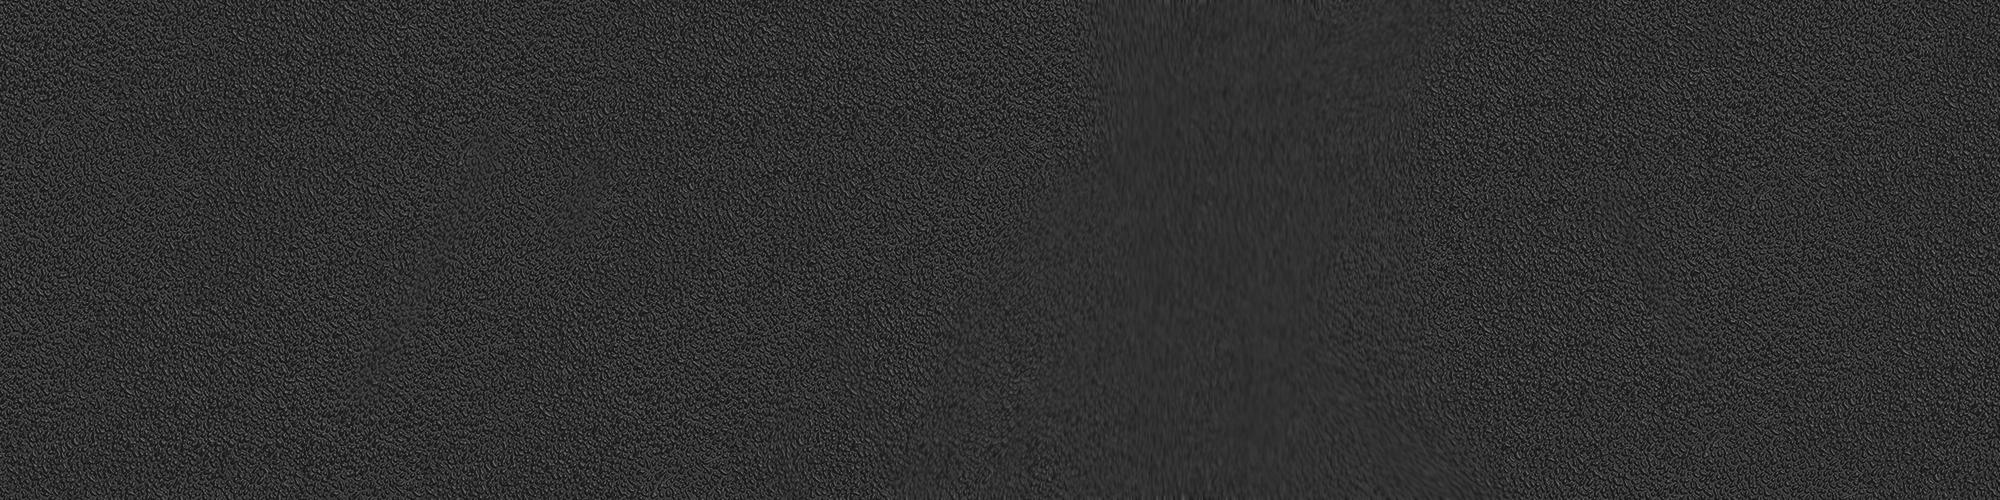Flow_Lines: (997, 14, 1398, 492)
